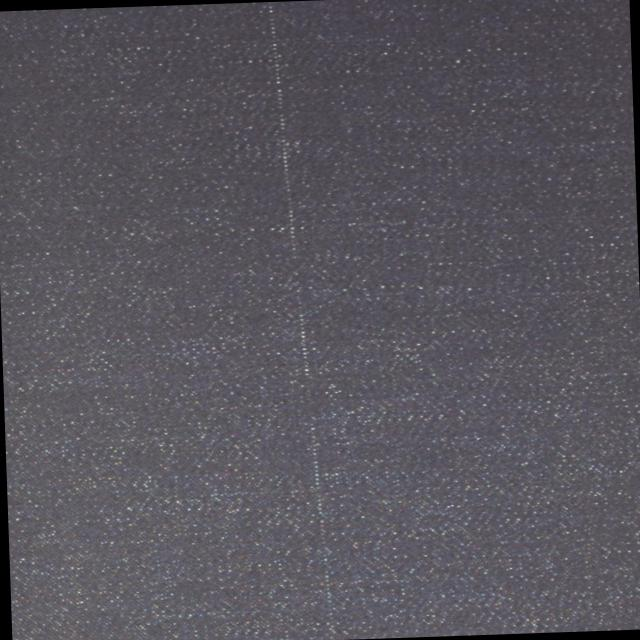Warp_Weft: (259, 1, 341, 640)
